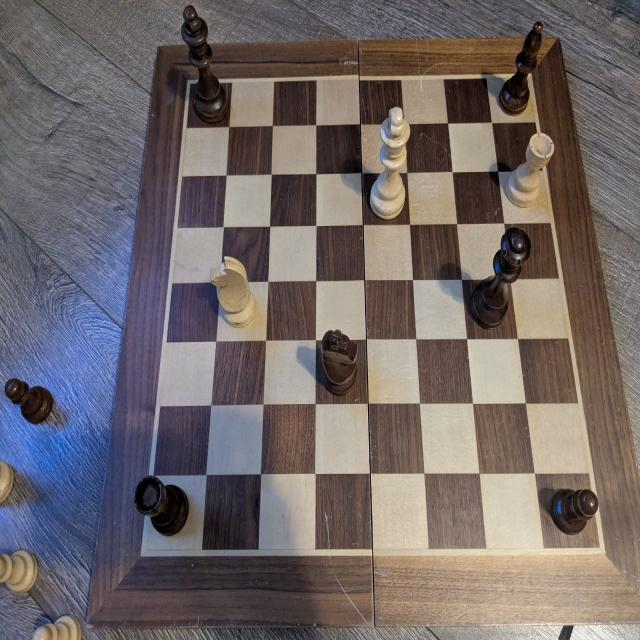black_bishop: (499, 19, 543, 116)
black_king: (182, 4, 230, 124)
black_knight: (318, 328, 361, 397)
black_pawn: (550, 488, 599, 536)
black_queen: (468, 226, 530, 329)
black_rook: (134, 474, 189, 535)
white_king: (371, 104, 412, 220)
white_knight: (211, 255, 257, 329)
white_rook: (506, 130, 554, 208)
